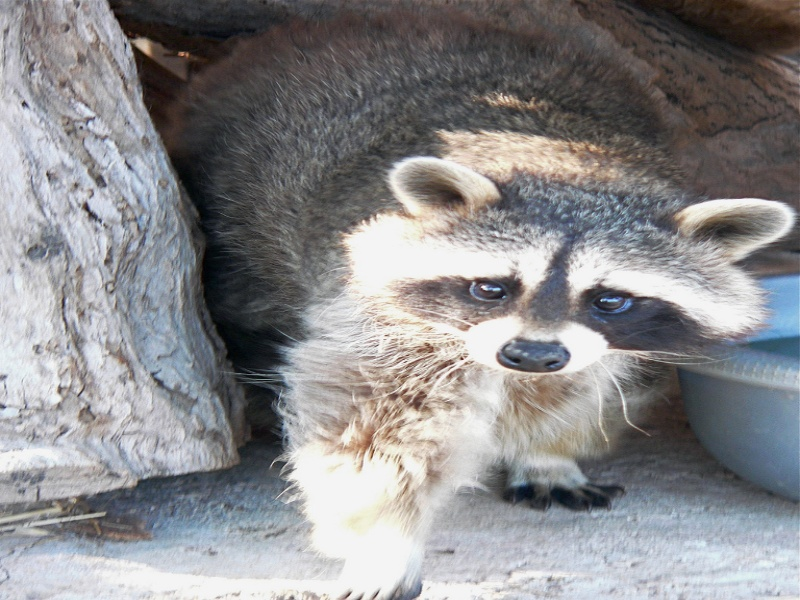raccoon: (176, 5, 795, 598)
